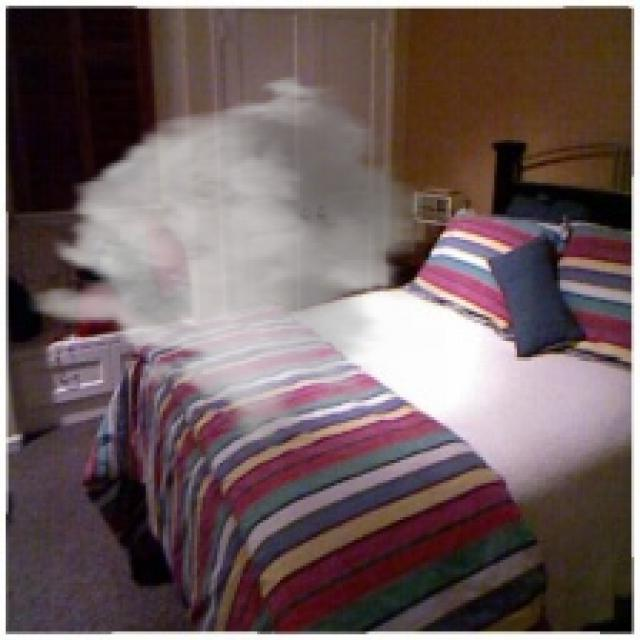smoke: (23, 71, 446, 443)
